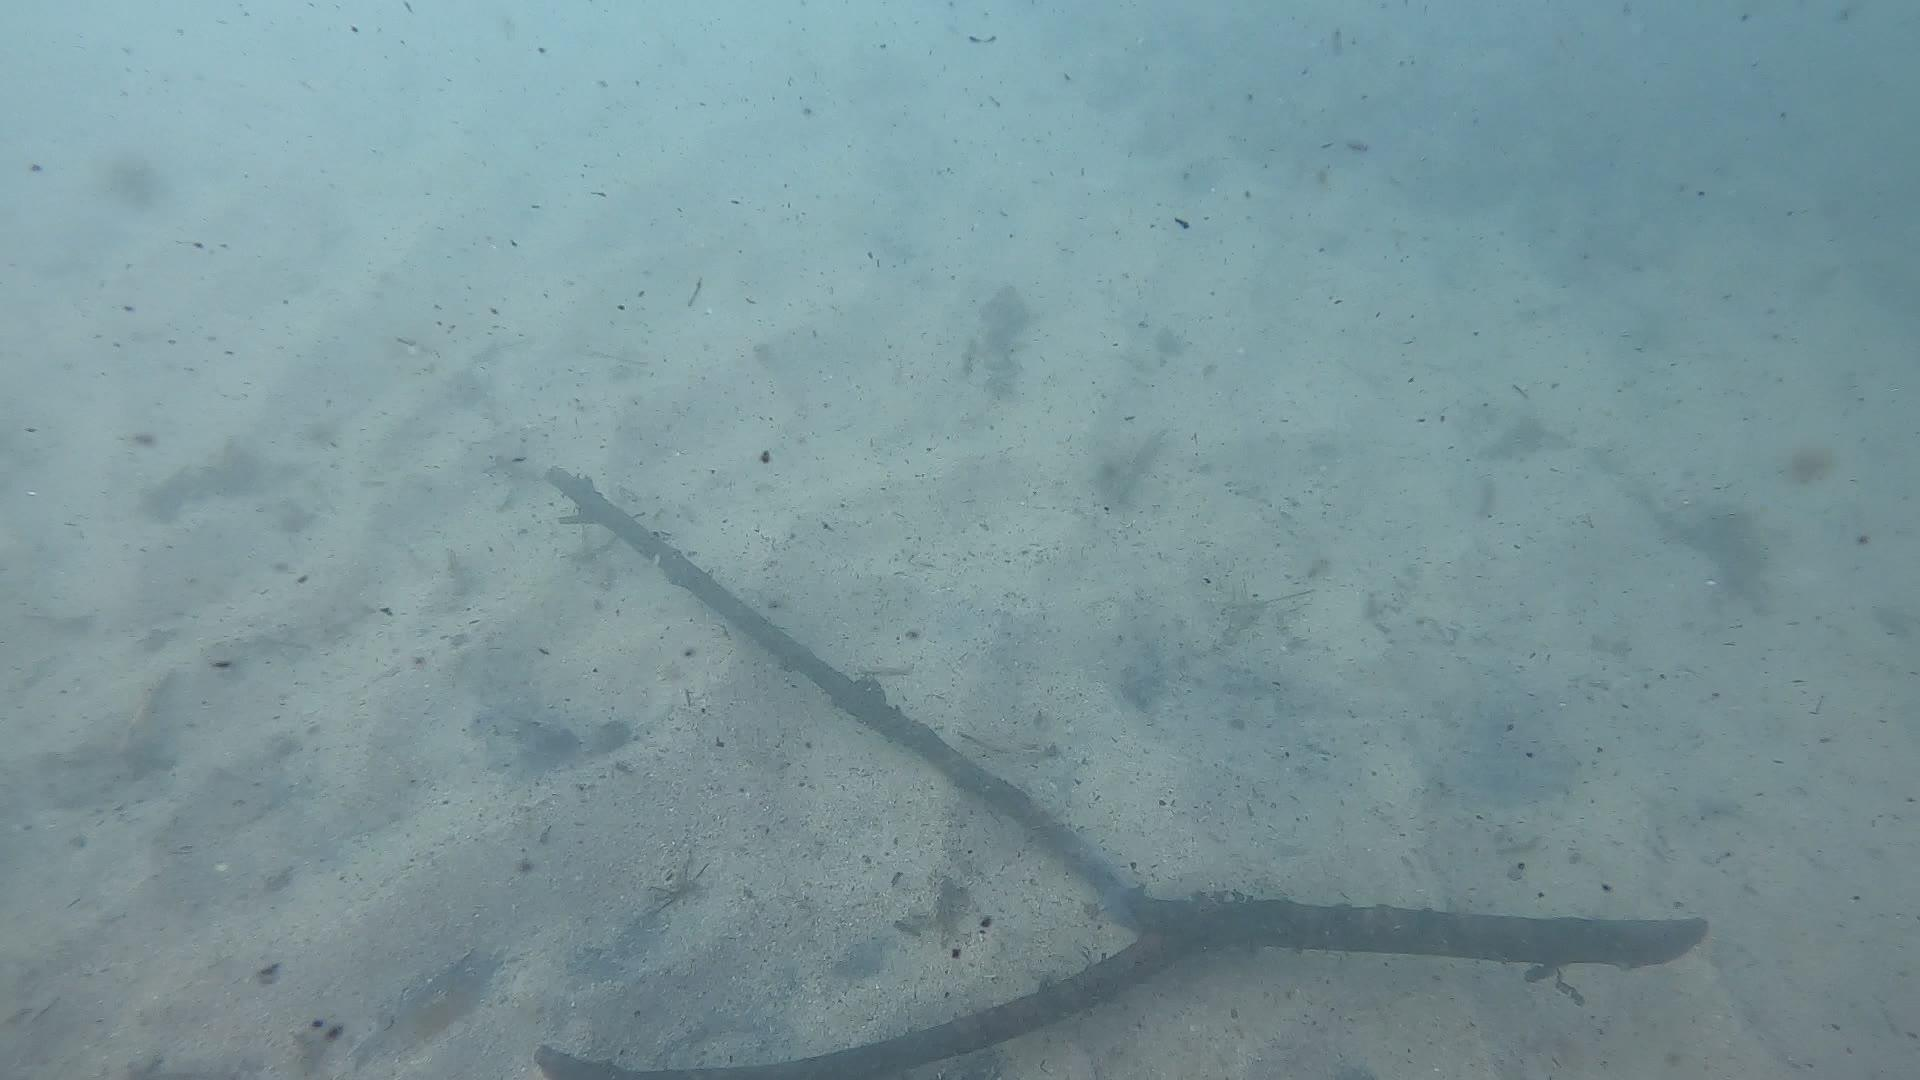wood: (531, 462, 1706, 1080)
